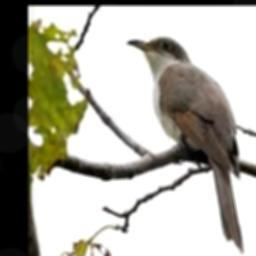Cuckoo: (126, 36, 243, 253)
